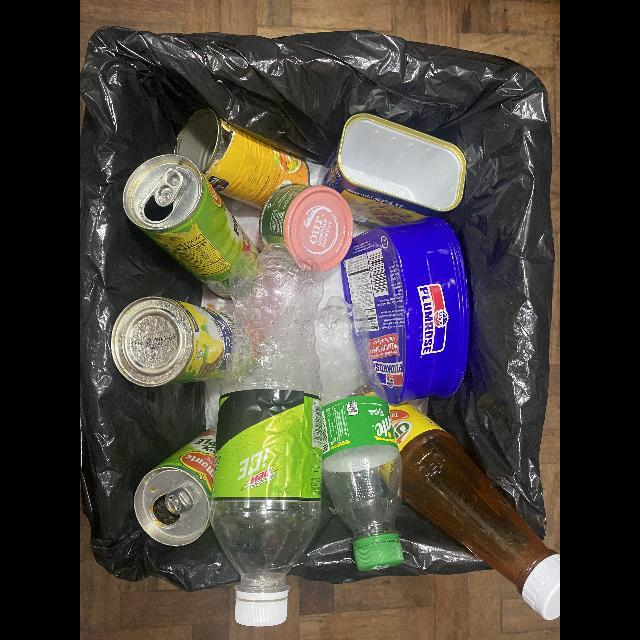glass: (389, 404, 560, 622)
metal: (341, 217, 470, 405), (122, 154, 259, 300), (317, 113, 467, 229), (177, 108, 310, 210), (110, 297, 235, 388), (134, 428, 217, 547), (259, 184, 354, 272)
plastic: (211, 243, 325, 627), (315, 297, 412, 572)
